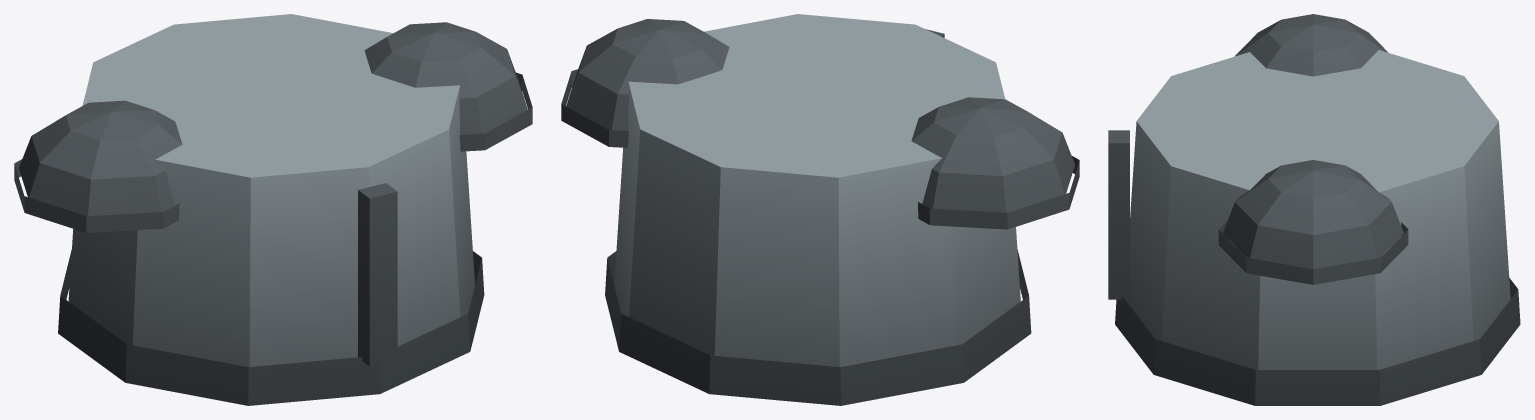
The model's file is guard_chest_t1.glb.
3 views of the same model, side by side, from view 1: azimuth 30°, elevation 25°; view 2: azimuth 150°, elevation 25°; view 3: azimuth 270°, elevation 25° (orthographic). The views are drawn at different scales.
Visible parts, largest first — view 1: guard_chest_t1__chest; view 2: guard_chest_t1__chest; view 3: guard_chest_t1__chest.
Part boxes in pixels (<box>): guard_chest_t1__chest: <box>14,14,532,405</box>; guard_chest_t1__chest: <box>561,14,1079,405</box>; guard_chest_t1__chest: <box>1108,14,1520,405</box>.
Bounding box in the file's own units: 1.24 × 0.58 × 0.955.
Materials: 1 (1 with a texture image).
